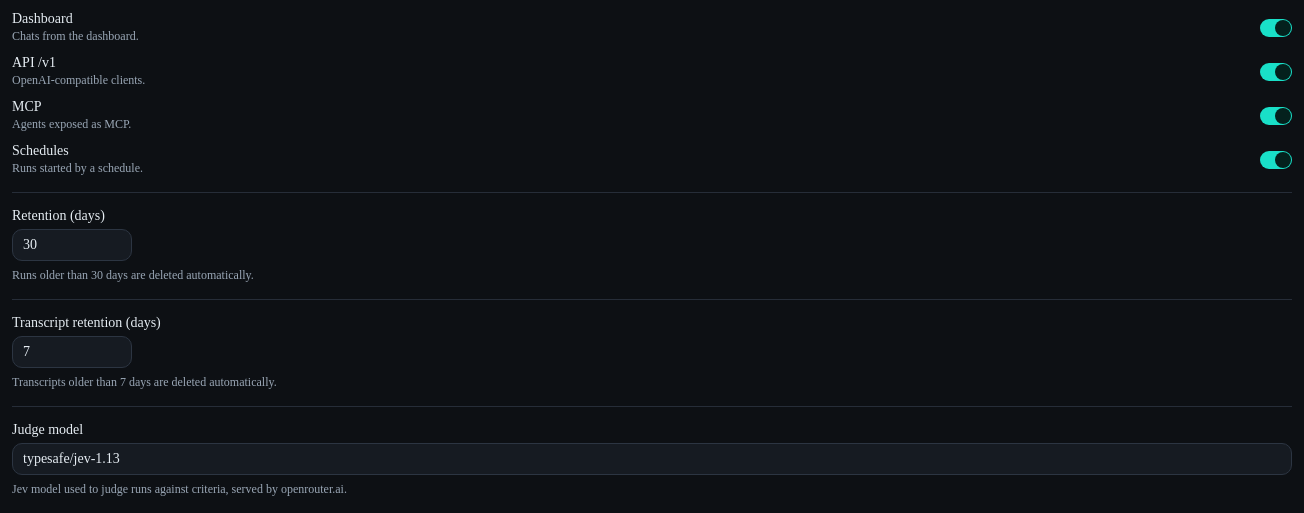
Test: TrackingToggles judge model › rejects an empty value and restores the previous one
Clear the field labelled "Judge model" at (652, 459), box [12,443,1292,475]
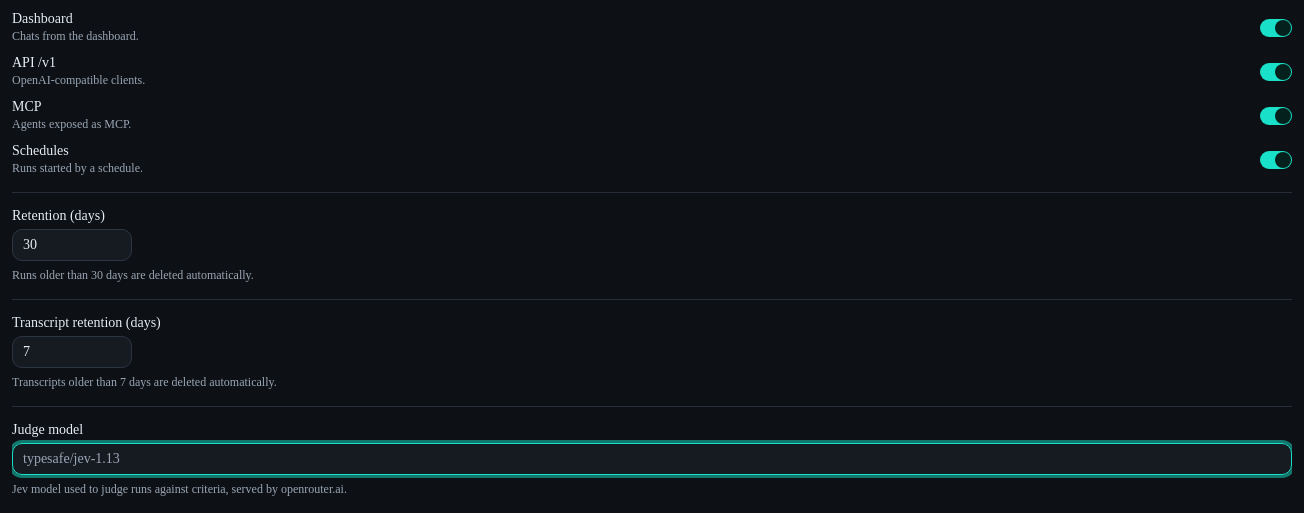
Press Tab
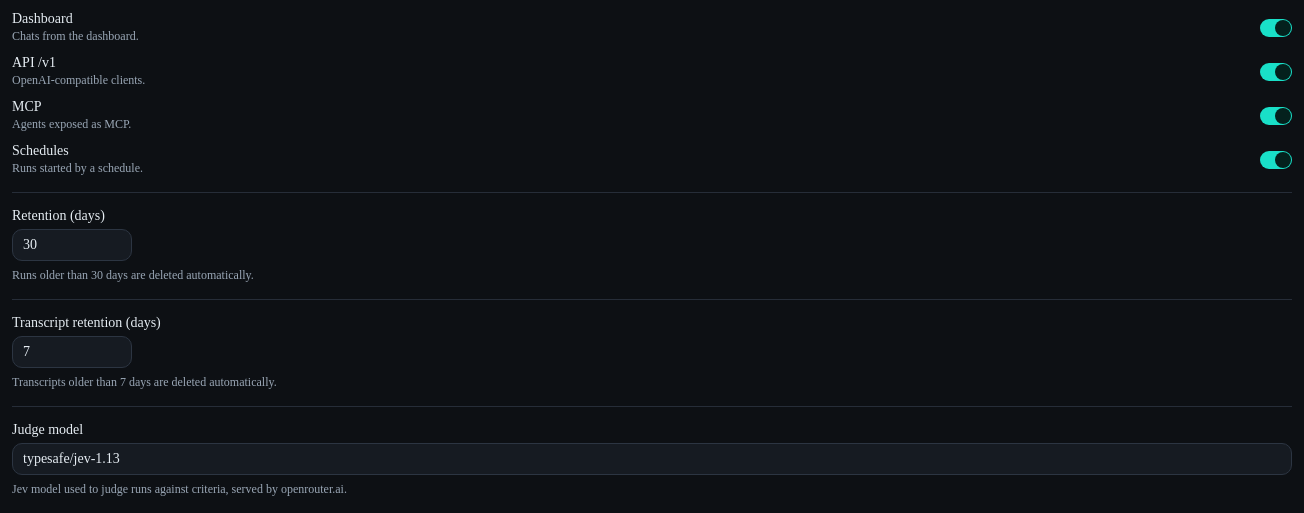
Result: the field labelled "Judge model" holds "typesafe/jev-1.13" at [12,443,1292,475]
